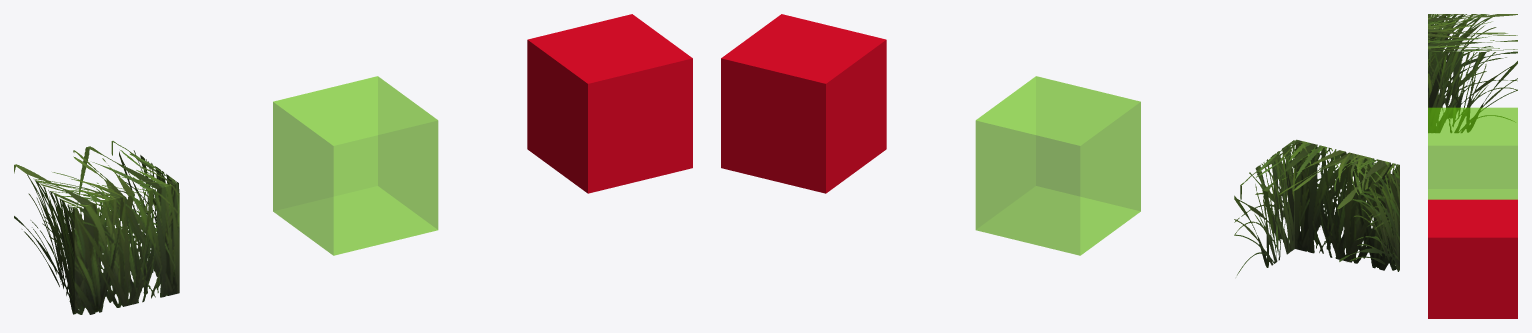
The model's file is CubesTest.fbx.
The picture shows the model from 3 angles, left to right: view 1: azimuth 30°, elevation 25°; view 2: azimuth 150°, elevation 25°; view 3: azimuth 270°, elevation 25°; orthographic projection. The views are drawn at different scales.
Parts seen in each view (by area): view 1: pCube3, pCube2, pCube1; view 2: pCube3, pCube2, pCube1; view 3: pCube3, pCube2, pCube1.
Boxes of the visible parts, left/top/right/bottom form: pCube3: left=527, top=14, right=692, bottom=193; pCube2: left=273, top=76, right=438, bottom=255; pCube1: left=14, top=141, right=179, bottom=314; pCube3: left=721, top=14, right=886, bottom=193; pCube2: left=975, top=76, right=1140, bottom=255; pCube1: left=1234, top=139, right=1399, bottom=275; pCube3: left=1428, top=199, right=1517, bottom=318; pCube2: left=1428, top=107, right=1517, bottom=199; pCube1: left=1428, top=14, right=1517, bottom=132.
Size of the model in its own units: 49.8 by 8.45 by 8.45.
